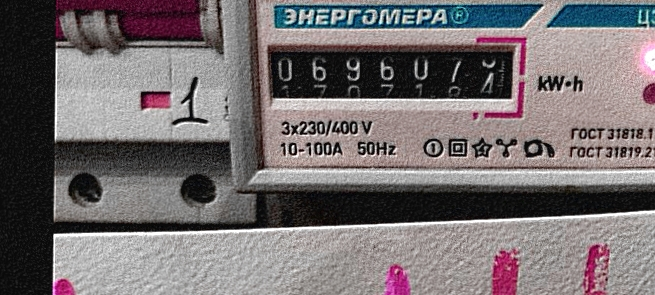0: (412, 52, 431, 82), (277, 54, 295, 83)
4: (479, 68, 496, 97)
6: (379, 53, 397, 82), (311, 54, 329, 82)
7: (446, 53, 466, 85)
9: (344, 54, 363, 82)
screen: (255, 30, 533, 117)
